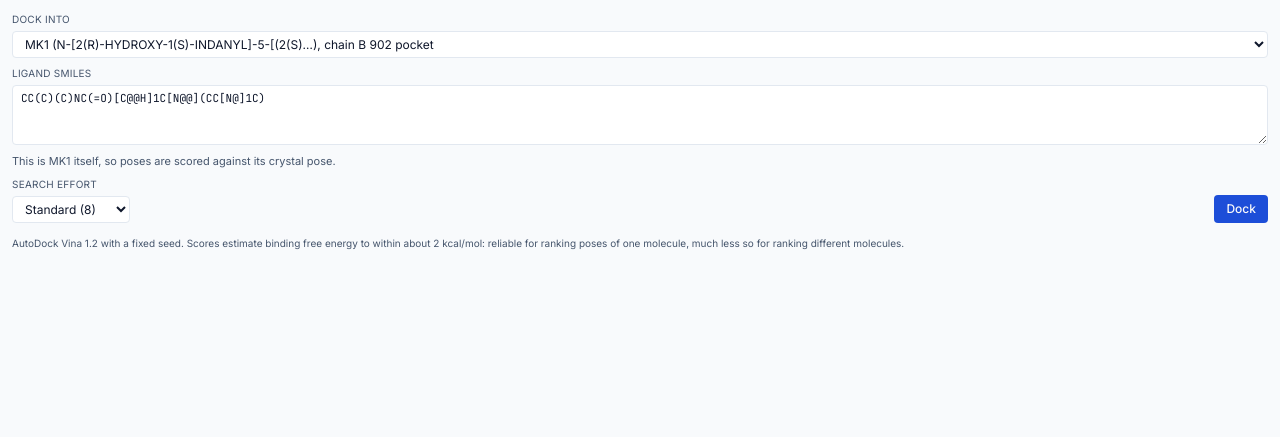
Test: DockingPanel › docks, shows the best pose in 3D and reports the redock RMSD
Click the button "Dock" at (1241,209), box x1=1214 y1=195 x2=1268 y2=223
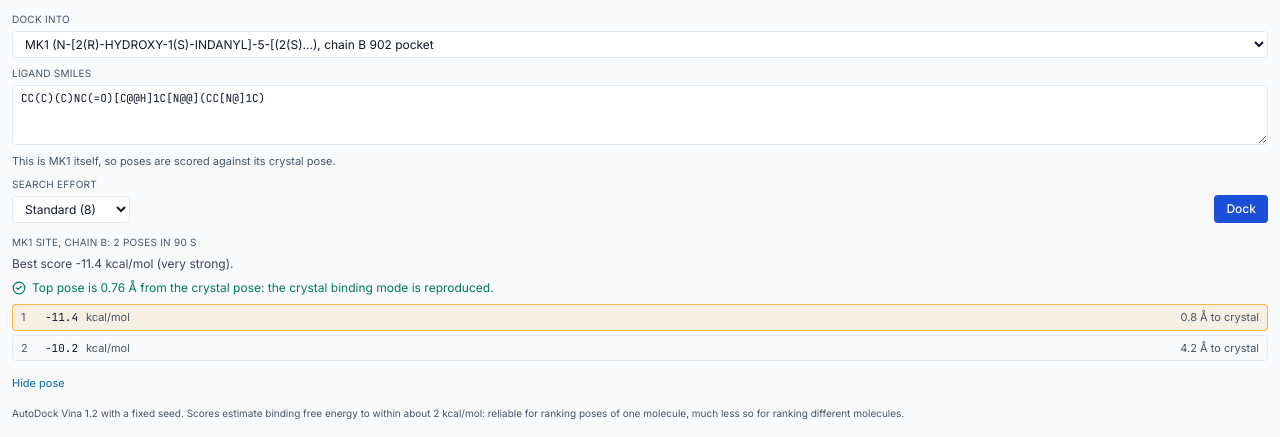
Expected: the text "Top pose is 0.76 Å from the crystal pose" is shown, x1=12 y1=280 x2=494 y2=295
Expected: the text "Best score -11.4 kcal/mol (very strong)." is shown, x1=12 y1=256 x2=234 y2=271
